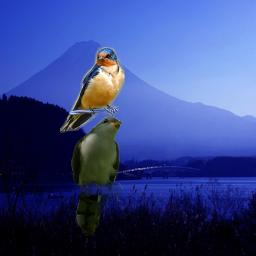Cuckoo: (71, 116, 123, 236)
Swallow: (60, 47, 125, 133)
